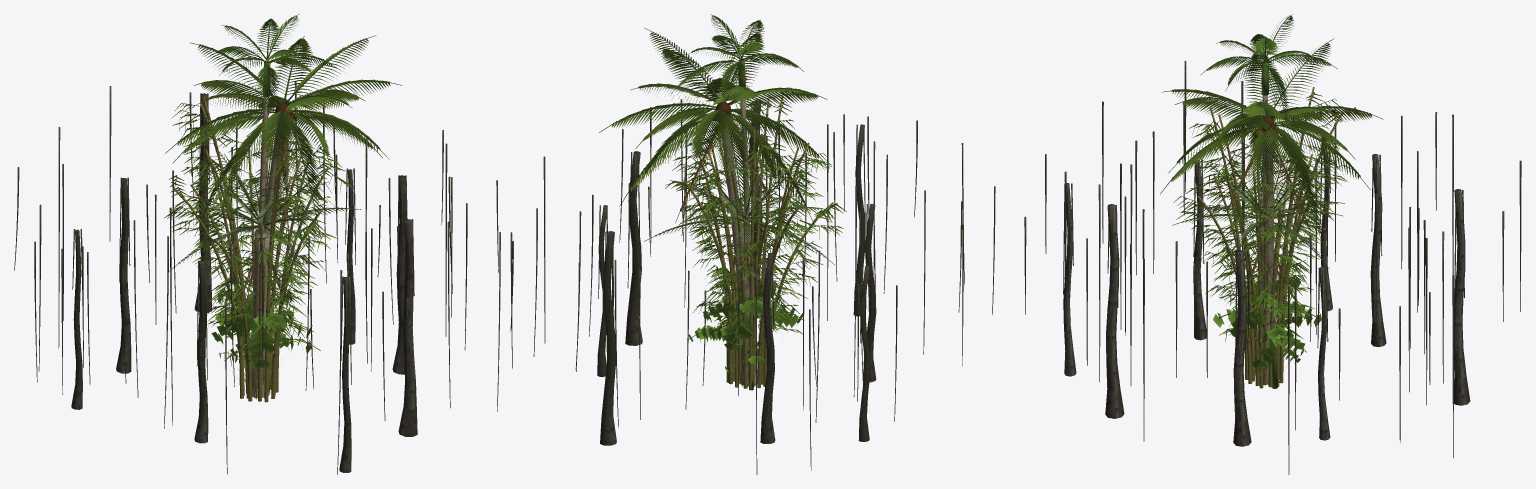
The model's file is trees_southasia.glb.
3 views of the same model, side by side, from view 1: azimuth 30°, elevation 25°; view 2: azimuth 150°, elevation 25°; view 3: azimuth 270°, elevation 25° (orthographic). The views are drawn at different scales.
Parts seen in each view (by area): view 1: banyan_roots_mesh, bamboo_clump_mesh, palm_coconut_mesh, palm_date_mesh, palm_areca_mesh, banana_mesh; view 2: banyan_roots_mesh, bamboo_clump_mesh, palm_coconut_mesh, palm_areca_mesh, palm_date_mesh, banana_mesh; view 3: banyan_roots_mesh, bamboo_clump_mesh, palm_coconut_mesh, palm_date_mesh, palm_areca_mesh, banana_mesh.
Boxes of the visible parts, x1=… form: banyan_roots_mesh: x1=14, y1=81, x2=467, y2=474; bamboo_clump_mesh: x1=164, y1=97, x2=353, y2=402; palm_coconut_mesh: x1=165, y1=35, x2=401, y2=397; palm_date_mesh: x1=169, y1=141, x2=361, y2=388; palm_areca_mesh: x1=215, y1=14, x2=338, y2=233; banana_mesh: x1=211, y1=292, x2=320, y2=375; banyan_roots_mesh: x1=496, y1=99, x2=995, y2=474; bamboo_clump_mesh: x1=665, y1=97, x2=846, y2=390; palm_coconut_mesh: x1=599, y1=28, x2=829, y2=386; palm_areca_mesh: x1=671, y1=14, x2=803, y2=226; palm_date_mesh: x1=644, y1=135, x2=834, y2=374; banana_mesh: x1=688, y1=280, x2=804, y2=390; banyan_roots_mesh: x1=1024, y1=61, x2=1521, y2=474; bamboo_clump_mesh: x1=1173, y1=87, x2=1362, y2=388; palm_coconut_mesh: x1=1160, y1=38, x2=1383, y2=384; palm_date_mesh: x1=1172, y1=148, x2=1344, y2=374; palm_areca_mesh: x1=1201, y1=14, x2=1337, y2=224; banana_mesh: x1=1213, y1=276, x2=1321, y2=388.
Bounding box in the file's own units: 15.37 × 12.49 × 15.56.
4 materials, 4 textured.
